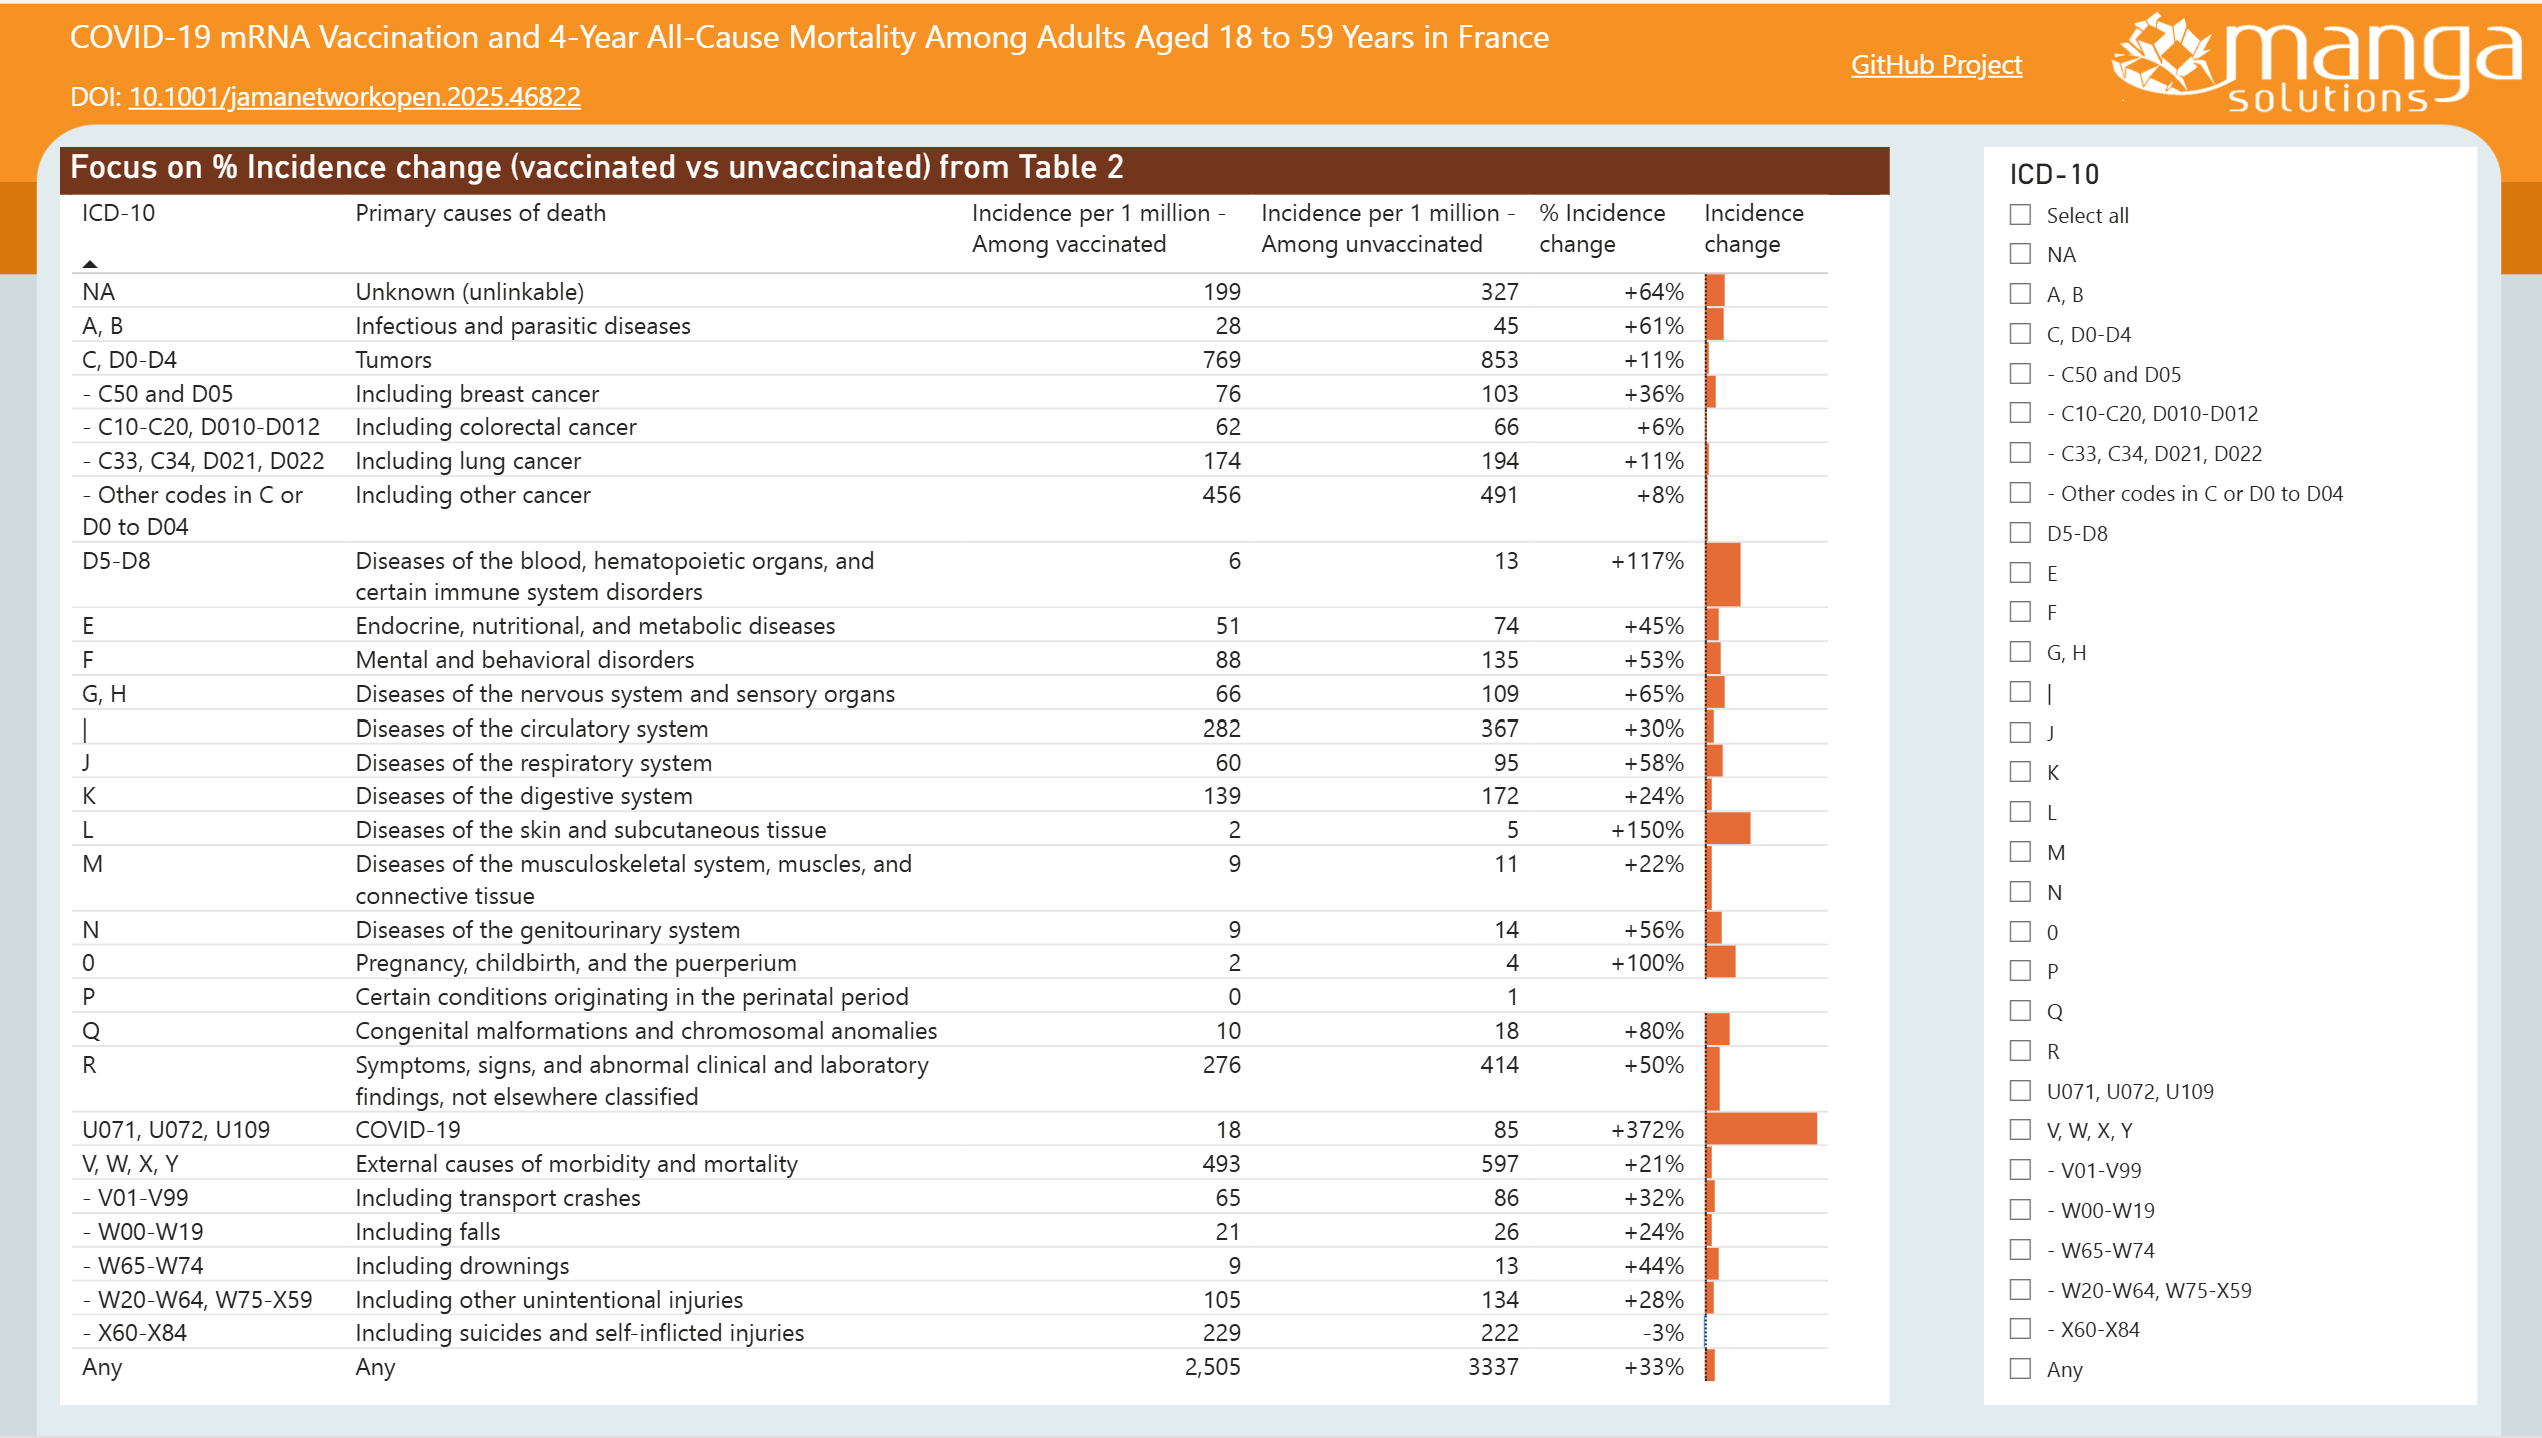

This screenshot's page, from the dashboard's own definition file:
{"tool":"powerbi","page":{"name":"% Incidence Change","canvas":[1280,720],"ordinal":0},"visuals":[{"type":"textbox","box":[32,0,880,48],"z":0},{"type":"actionButton","box":[1056,0,224,64],"z":1000},{"type":"textbox","box":[896,16,128,32],"z":2000},{"type":"textbox","box":[32,32,304,32],"z":3000},{"type":"slicer","fields":{"Values":["Table 2.ICD-10 with description"]},"box":[999.5,71.4,248.6,648.9],"z":4000},{"type":"tableEx","title":"Focus on % Incidence change (vaccinated vs unvaccinated) from Table 2","fields":{"Values":["Table 2 text.ICD-10","Table 2 text.Primary causes of death","Table 2 text.# Incidence per 1 million Among vaccinated","Table 2 text.# Incidence per 1 million Among unvaccinated","Table 2 text.% Incidence change","Table 2 text.% Incidence change - for Data bar"]},"box":[31.9,71.4,864.4,632.4],"z":5000}]}

Visuals, with their boxes in screenshot pixels (x1, y1, x2, y2), scaled from the page's 1280x720 canvas onto the 2542x1438 screenshot:
textbox: [64, 0, 1811, 96]
actionButton: [2097, 0, 2541, 128]
textbox: [1779, 32, 2034, 96]
textbox: [64, 64, 667, 128]
slicer - Table 2.ICD-10 with description: [1985, 143, 2479, 1437]
"Focus on % Incidence change (vaccinated vs unvaccinated) from Table 2" tableEx: [63, 143, 1780, 1406]
